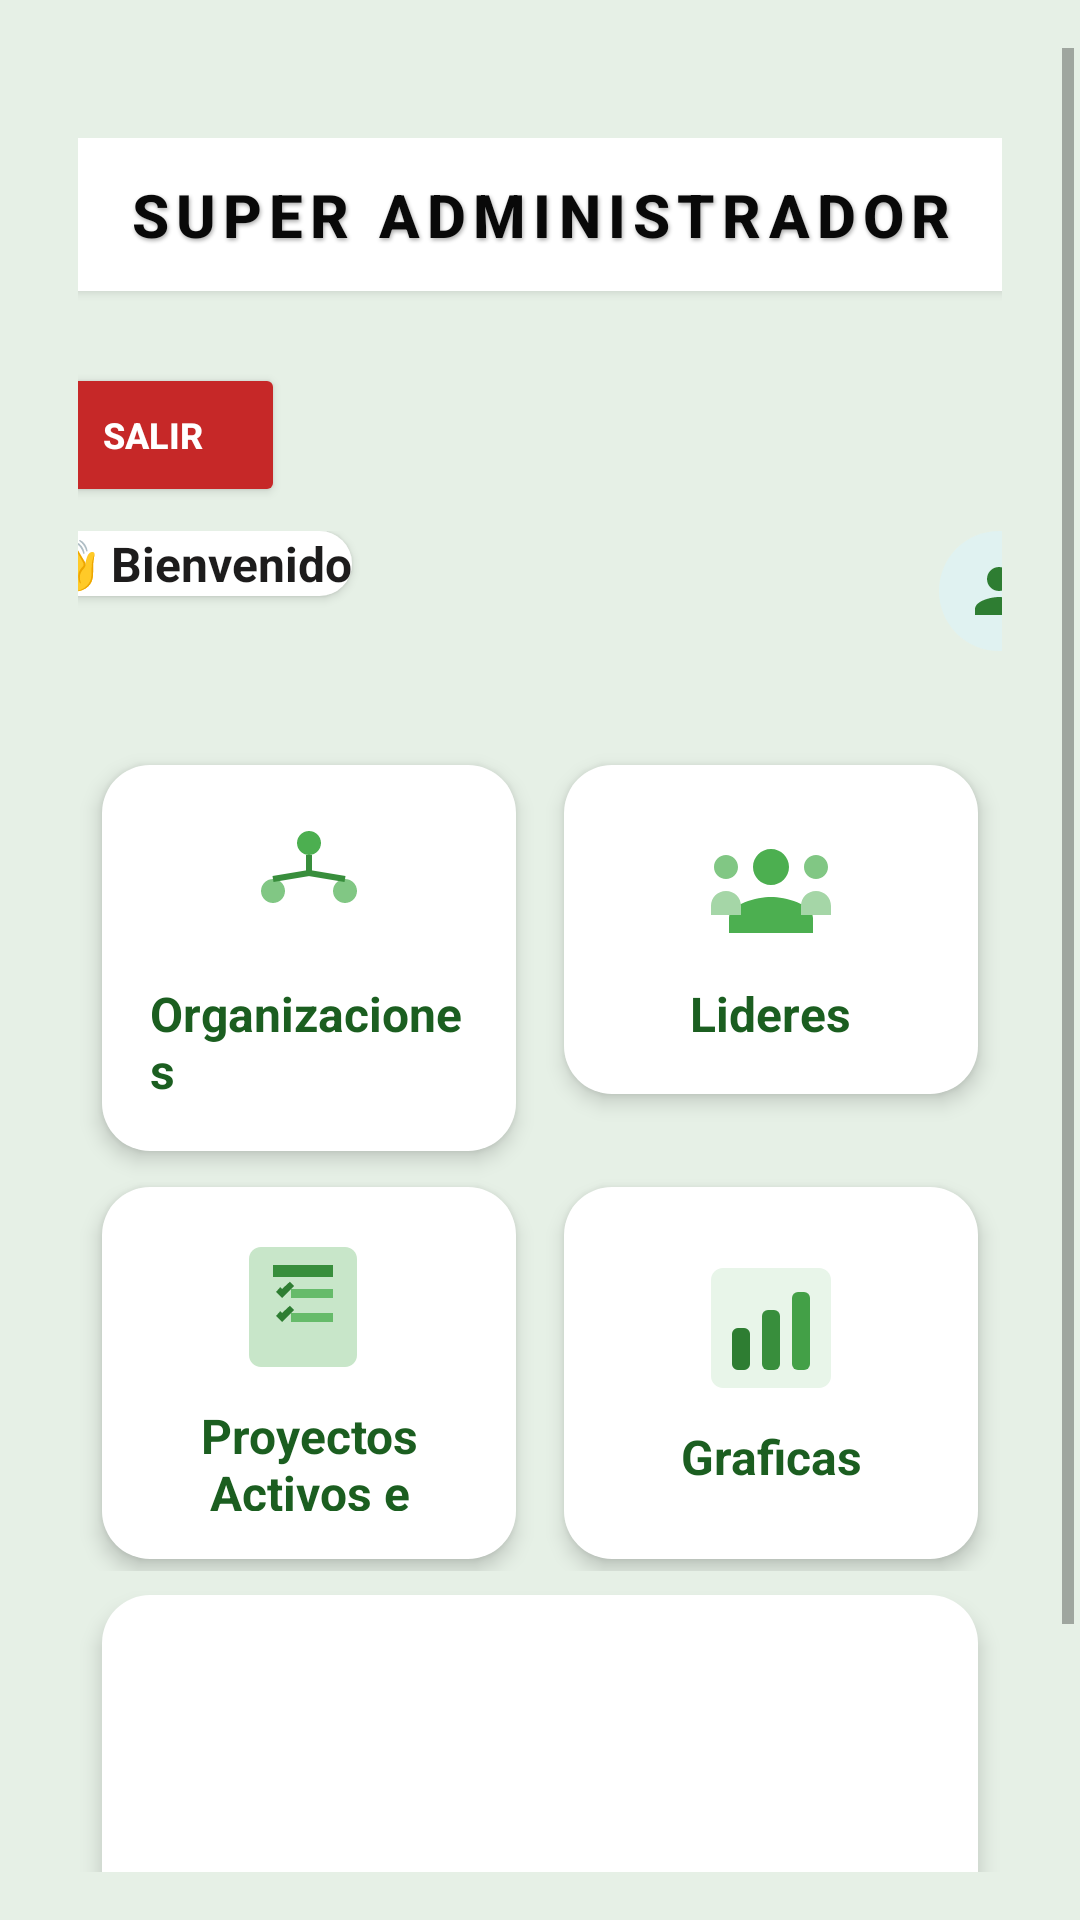

Named icons in this screenshot (1080px x 1920px) and their centers, (x=x, y=y):
actividades: (x=303, y=1307)
progress: (x=771, y=1331)
